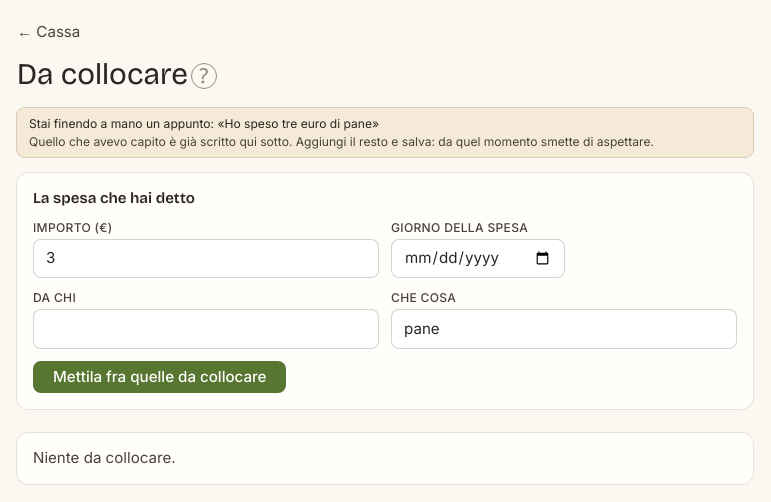
Scenario: Da collocare — «Fallo a mano» di una spesa detta › se dopo il salvataggio l'elenco non si rilegge, resta scritto che è fatta
Expected: the field showing "pane" is shown, [391,310,737,349]
Click the button "Mettila fra quelle da collocare" at (160, 377), box [33,361,286,393]
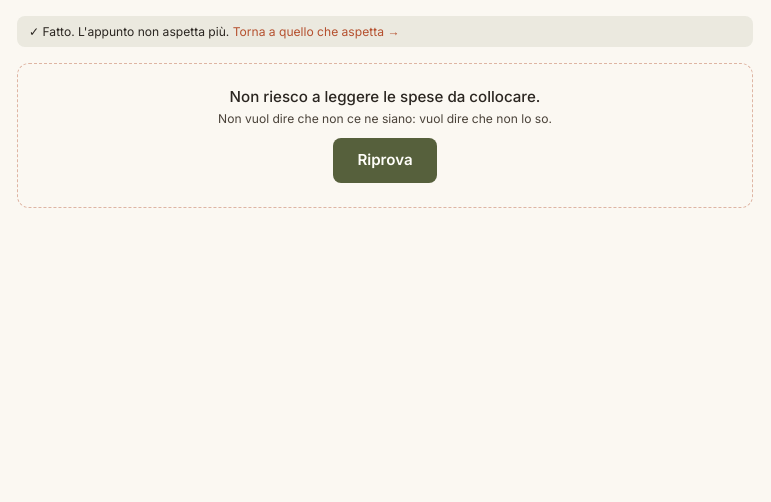
Now the text "L'appunto non aspetta più" is shown, box [29,24,229,39]
Now the button "Mettila fra quelle da collocare" is gone
